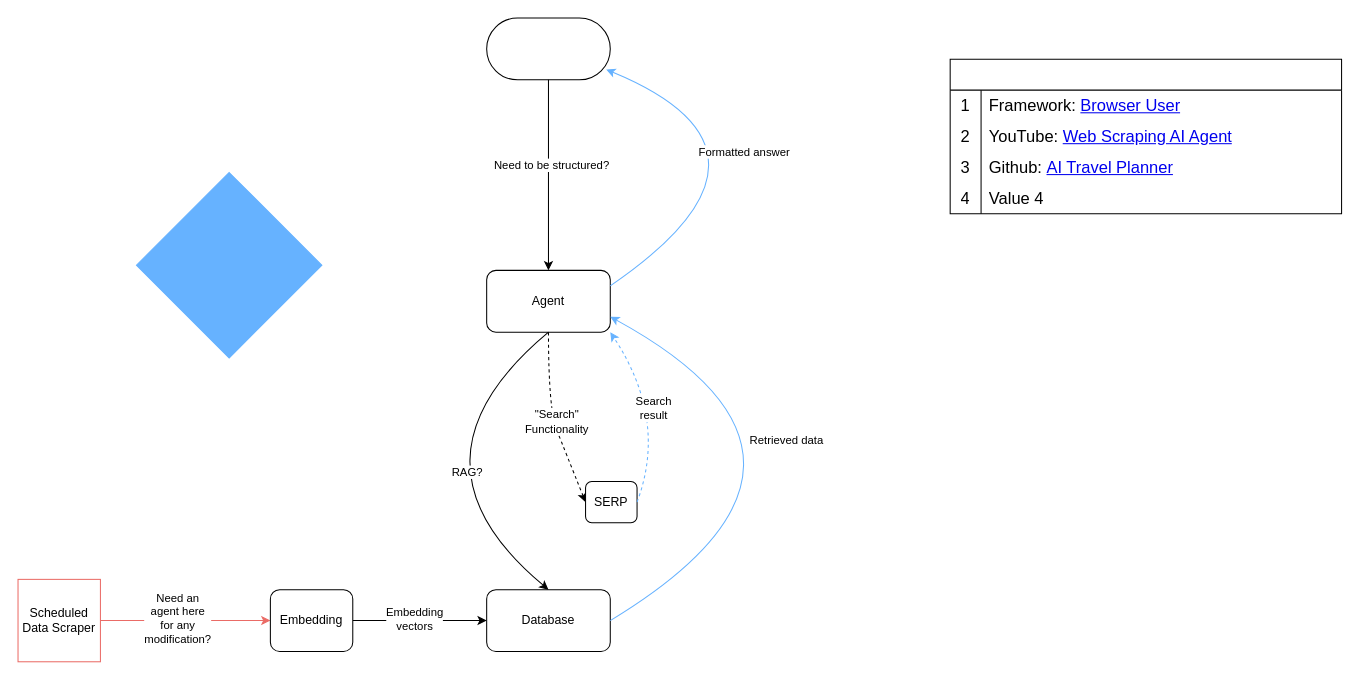
The diagram is 1360 pixels wide and 680 high, and some of its shapes have lost their labels. The box of each missing label's shape, as (x1, y1, x2, y2) in pixels:
Dockerize things for learning purposes: (135, 171, 322, 358)
Tools/Sources: (949, 58, 1342, 214)
User Input: (486, 17, 610, 80)
